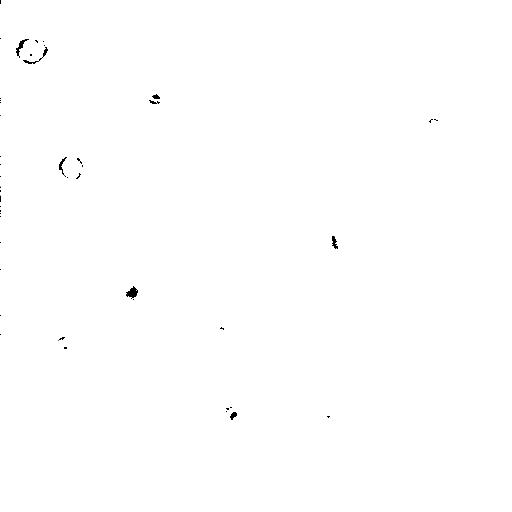micro-algae: (99, 265, 159, 321), (191, 0, 239, 46), (15, 31, 49, 65), (58, 153, 83, 183), (422, 116, 450, 140), (52, 332, 75, 359), (330, 226, 353, 253), (222, 406, 247, 428), (499, 109, 512, 151)
